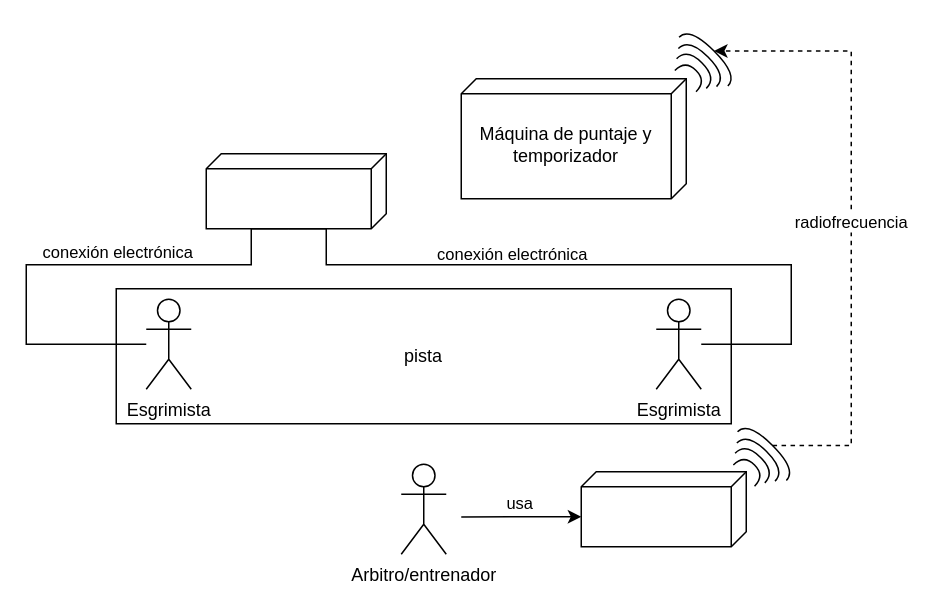
Some shapes in this 933 by 612 pixel diagram are drawn without their labels. The shapes that lost their labels are listed below. From the top down, each one's centre as x and y in pixels, then its label:
At (x=295, y=190): "Máquina de esgrima existente".
At (x=663, y=508): "Control remoto".
